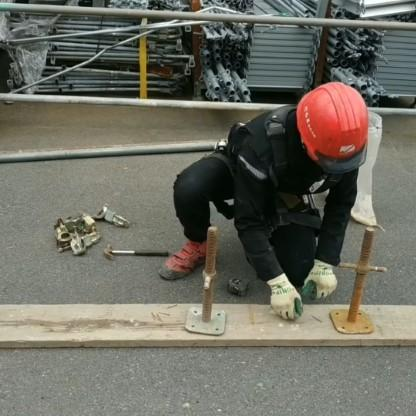helmet: (284, 78, 374, 174)
